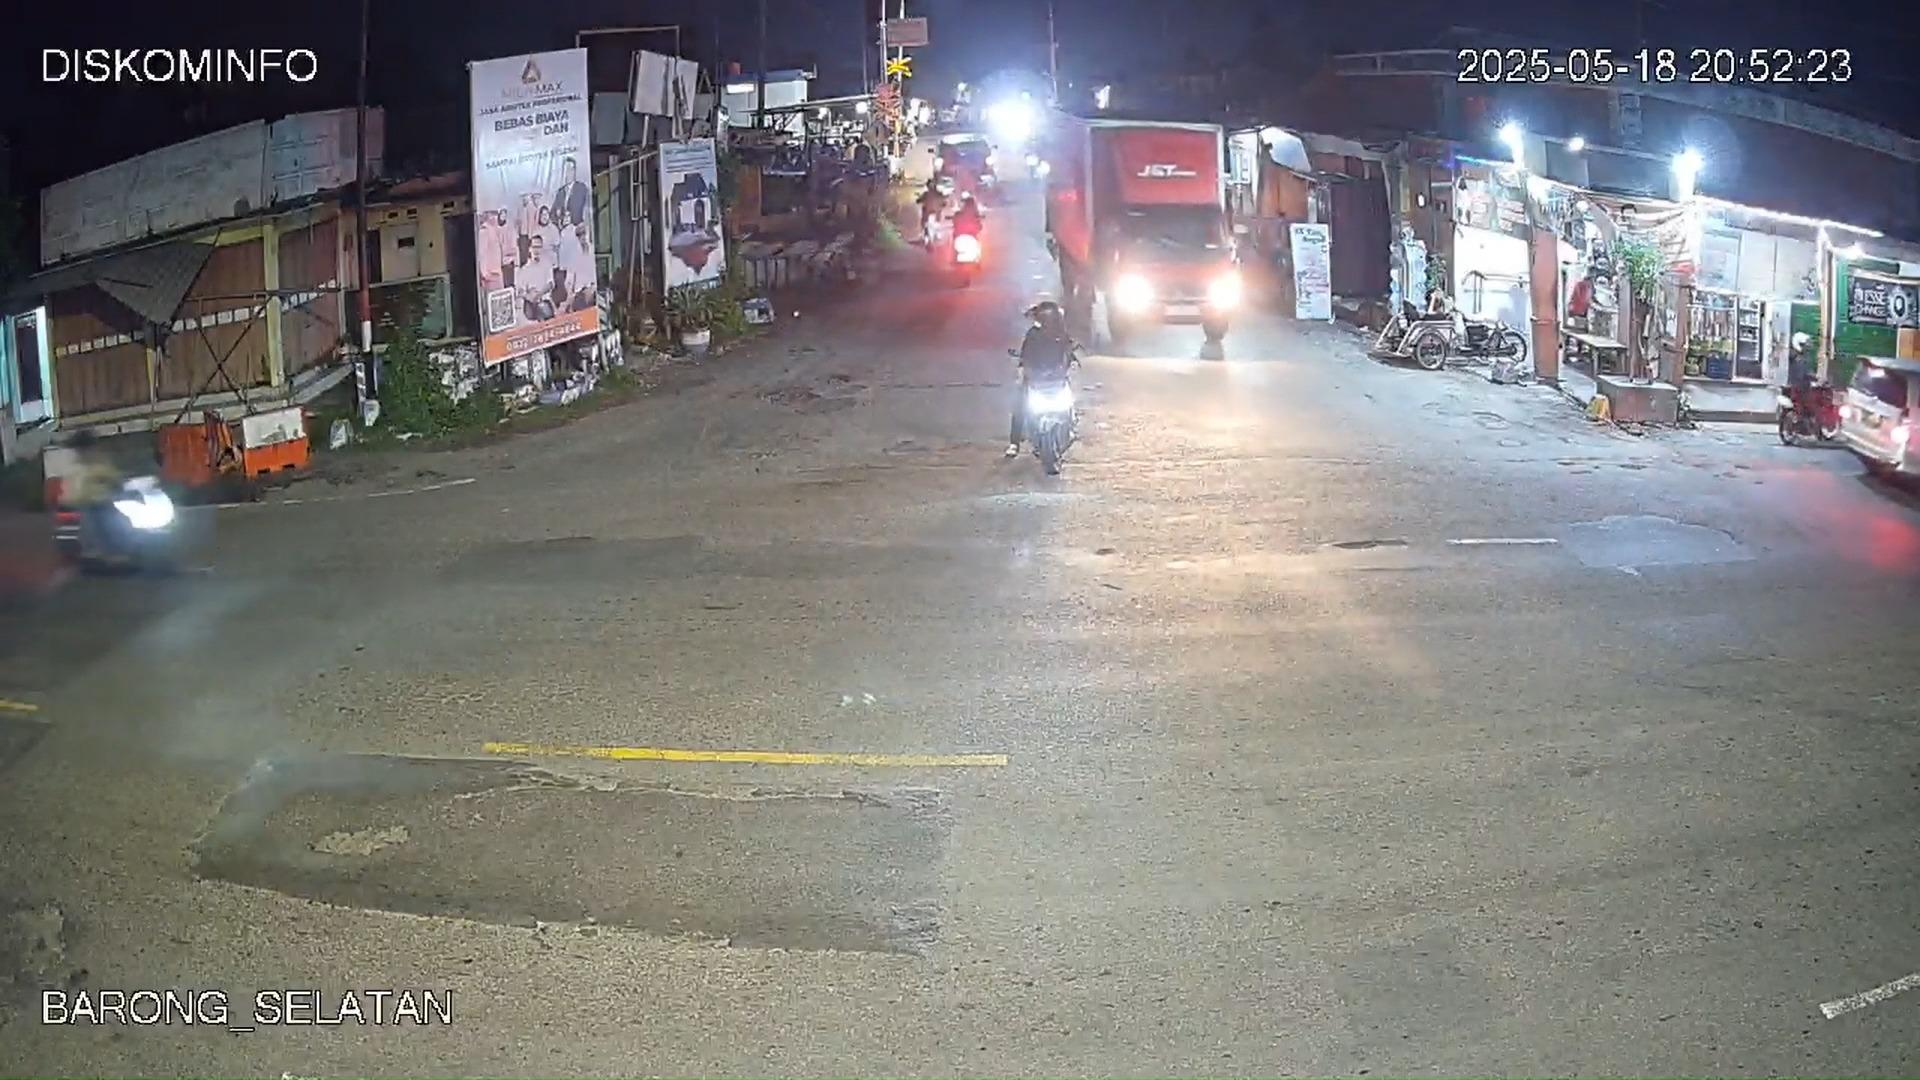Motor: (46, 438, 181, 587), (998, 297, 1089, 477)
Truck: (1048, 104, 1247, 352)
